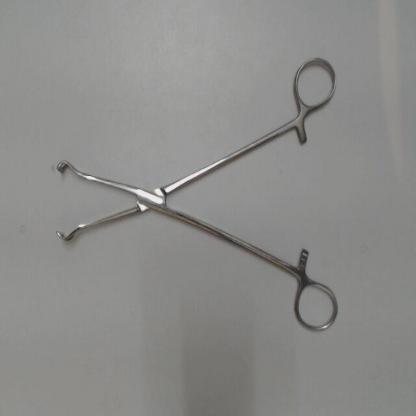8 Babcock Tissue Forceps: (52, 52, 342, 337)
